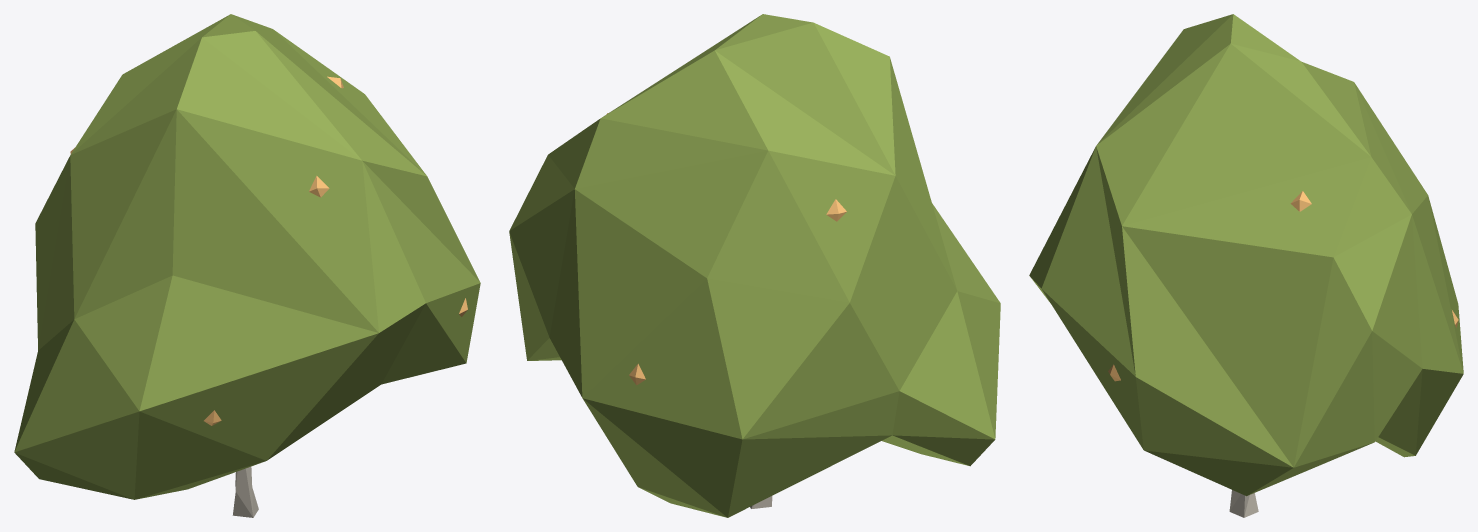
The model's file is PrunusArmeniaca.glb.
3 views of the same model, side by side, from view 1: azimuth 30°, elevation 25°; view 2: azimuth 150°, elevation 25°; view 3: azimuth 270°, elevation 25° (orthographic). The views are drawn at different scales.
Parts seen in each view (by area): view 1: Crown, Trunk, Fruit; view 2: Crown; view 3: Crown, Trunk.
Boxes of the visible parts, x1=… form: Crown: x1=14, y1=14, x2=480, y2=499; Trunk: x1=232, y1=466, x2=258, y2=517; Fruit: x1=70, y1=76, x2=467, y2=425; Crown: x1=509, y1=14, x2=1000, y2=517; Crown: x1=1029, y1=14, x2=1463, y2=496; Trunk: x1=1229, y1=490, x2=1258, y2=517.
Size of the model in its own units: 8.97 by 9.47 by 7.86.
